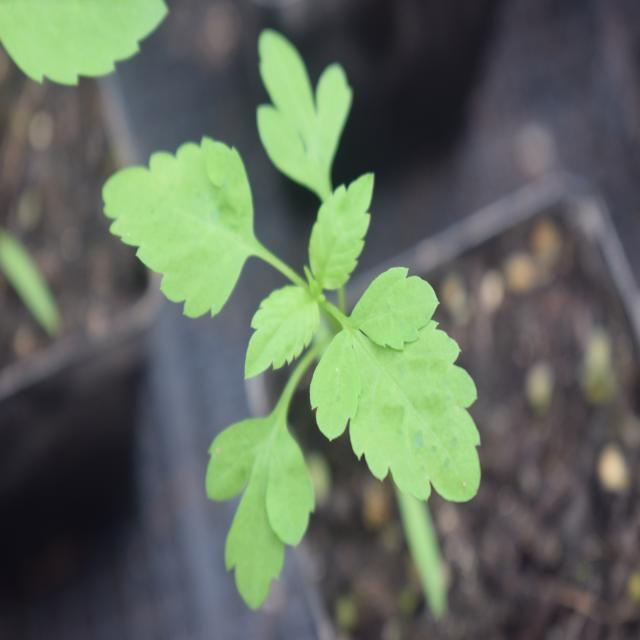Bidens pilosa: (98, 52, 486, 594)
